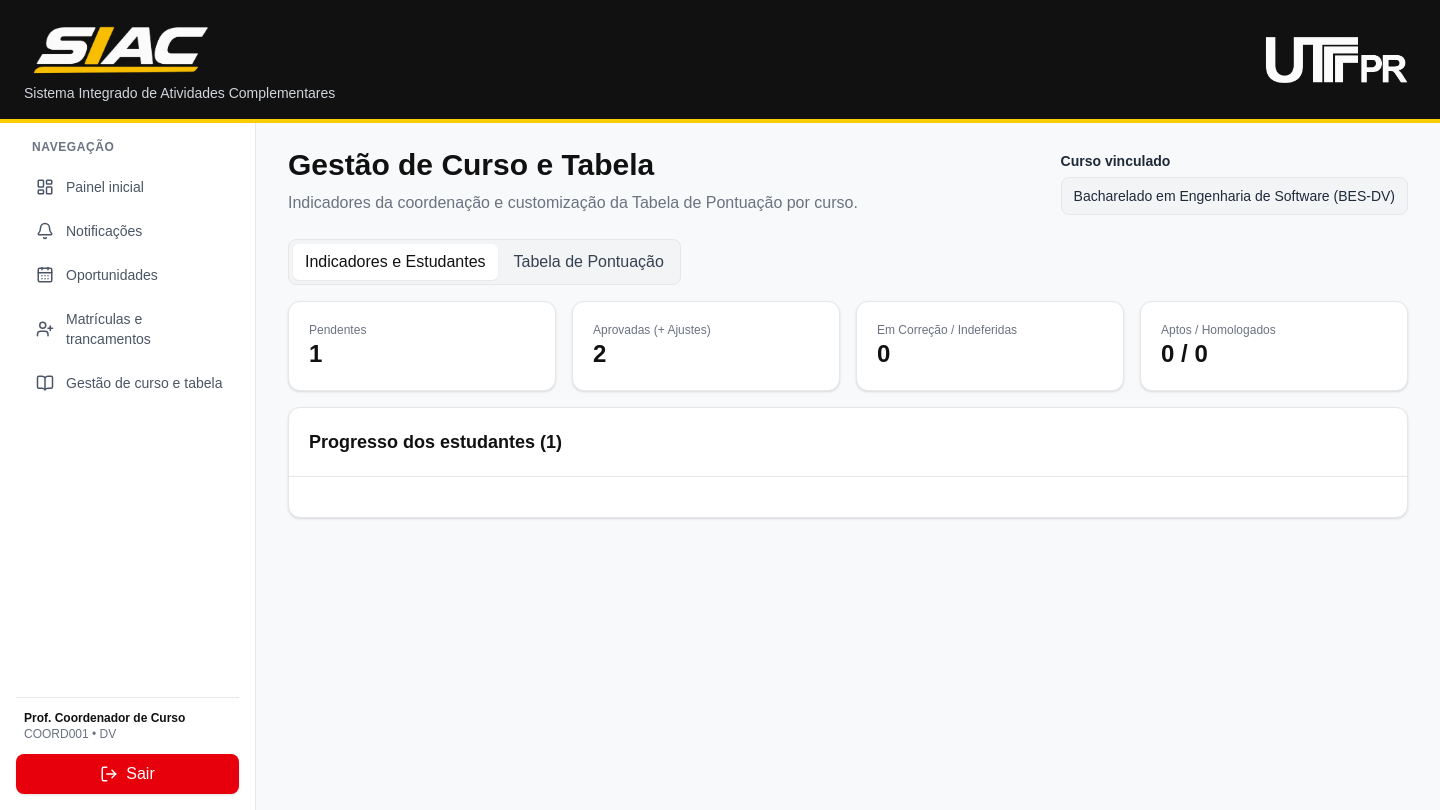
CourseManagementPage › exibe curso vinculado somente leitura para COURSE_COORD e separa os cards na aba de tabela
This screenshot has width=1440, height=810.
Expected: the text "Bacharelado em Engenharia de Software (BES-DV)" is shown, [1061, 177, 1408, 215]
Expected: the text "Curso vinculado" is shown, [1061, 153, 1170, 169]
Click the tab "Tabela de Pontuação": {"x": 589, "y": 262} [502, 244, 676, 280]
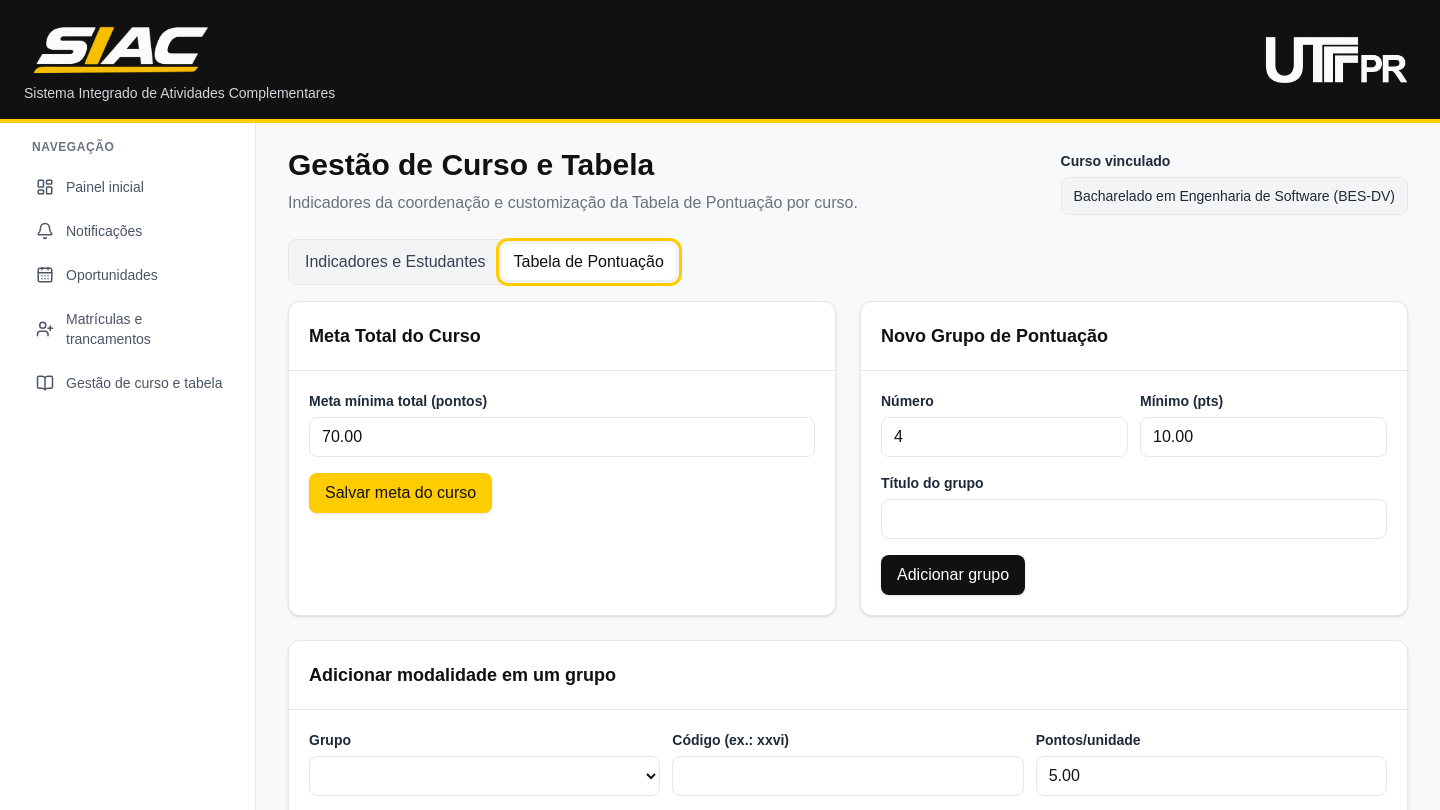
Expected: the heading "Meta Total do Curso" is shown, [309, 326, 481, 346]
Expected: the heading "Novo Grupo de Pontuação" is shown, [881, 326, 1108, 346]
